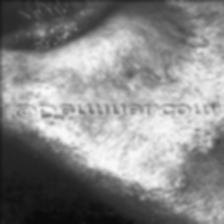Unclassified: (33, 56, 224, 98), (148, 129, 224, 212), (36, 122, 151, 154)
